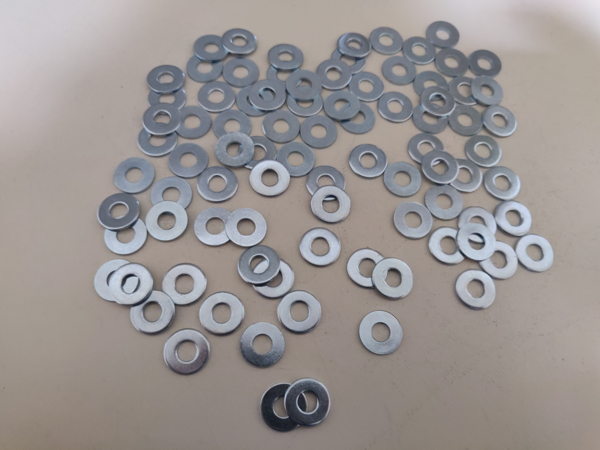circle: (163, 329, 212, 377), (284, 379, 332, 425), (261, 384, 306, 432), (199, 291, 246, 336), (145, 200, 195, 242), (240, 323, 286, 368), (359, 311, 404, 357), (164, 262, 210, 306), (130, 290, 175, 334), (109, 264, 154, 308), (278, 290, 322, 334), (94, 260, 140, 302), (103, 214, 149, 255), (195, 164, 241, 205), (96, 192, 143, 231), (193, 207, 236, 249), (253, 257, 296, 298), (226, 208, 269, 249), (371, 258, 413, 299), (171, 102, 214, 142), (112, 157, 157, 195), (166, 142, 212, 179), (300, 228, 342, 268), (348, 248, 389, 288), (455, 269, 496, 309), (250, 159, 291, 199), (478, 241, 519, 280), (238, 247, 280, 285), (460, 207, 503, 244), (516, 234, 555, 274), (457, 223, 498, 261), (152, 175, 193, 213), (140, 103, 184, 138), (311, 187, 353, 223), (424, 185, 466, 221), (214, 132, 256, 168), (275, 141, 317, 177), (262, 109, 304, 145), (306, 165, 348, 201), (495, 201, 534, 239), (393, 202, 433, 239), (300, 114, 340, 151), (421, 150, 460, 187), (137, 122, 179, 156), (429, 227, 467, 264), (384, 163, 422, 199), (238, 135, 278, 169), (197, 81, 238, 114), (349, 144, 388, 178), (410, 101, 449, 135), (184, 52, 225, 84), (448, 101, 484, 137), (408, 133, 446, 167), (314, 58, 353, 91), (145, 63, 186, 94), (212, 109, 253, 140), (485, 167, 521, 202), (191, 31, 230, 63), (329, 44, 368, 76), (147, 82, 188, 112), (483, 104, 518, 139), (446, 159, 483, 192), (286, 68, 323, 101), (285, 87, 322, 120), (400, 34, 436, 67), (348, 70, 385, 102), (465, 135, 503, 166), (222, 57, 260, 88), (248, 80, 286, 111), (340, 102, 378, 133), (469, 47, 503, 81), (420, 86, 457, 117), (237, 86, 274, 117), (323, 90, 361, 120), (470, 76, 506, 107), (377, 92, 414, 122), (413, 70, 452, 98), (448, 75, 483, 106), (382, 55, 417, 86), (426, 20, 462, 50), (221, 27, 258, 56), (264, 64, 301, 92), (268, 42, 304, 70), (434, 48, 469, 76), (369, 27, 405, 54), (337, 33, 374, 58)
